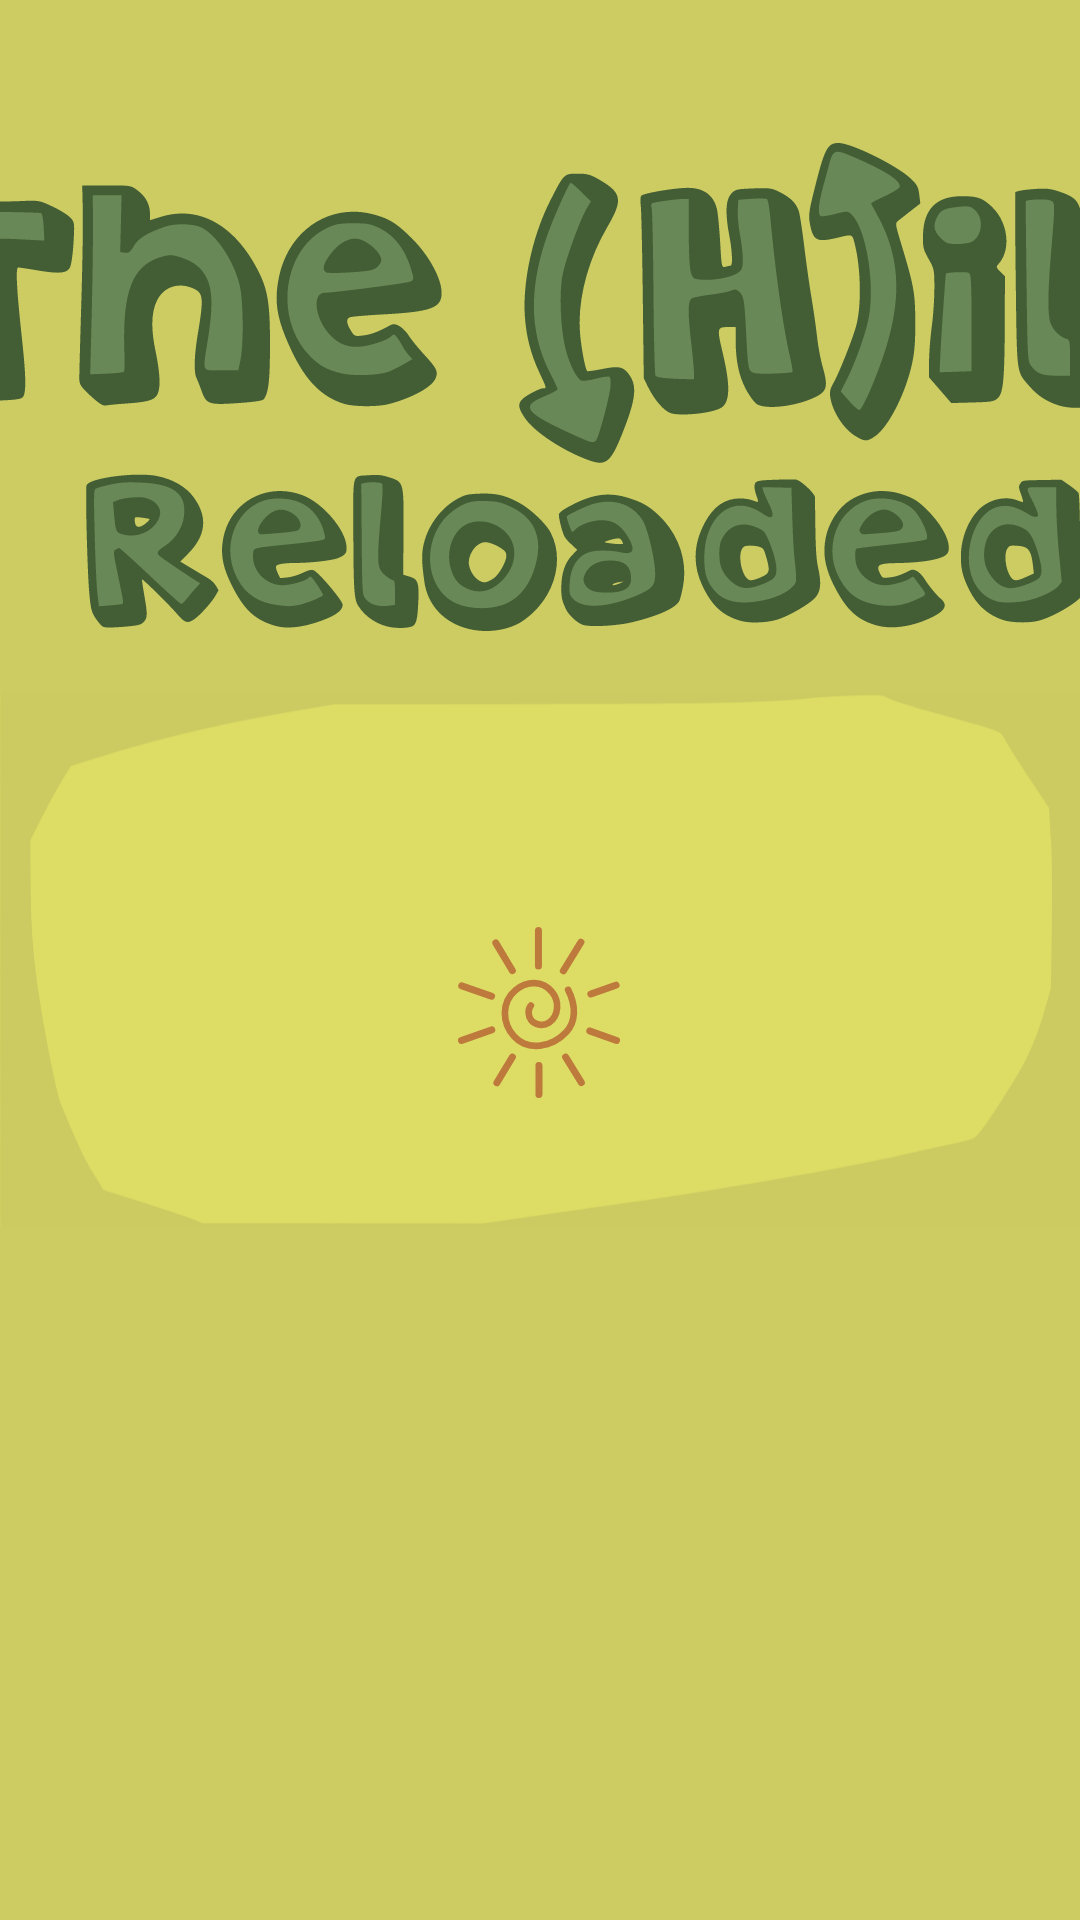

Named icons in this screenshot (1080px×1920px) and their centers, (x=x, y=y):
sole: (x=539, y=1012)
